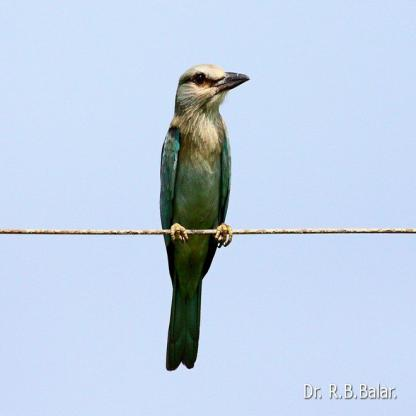Burung: (156, 62, 248, 372)
